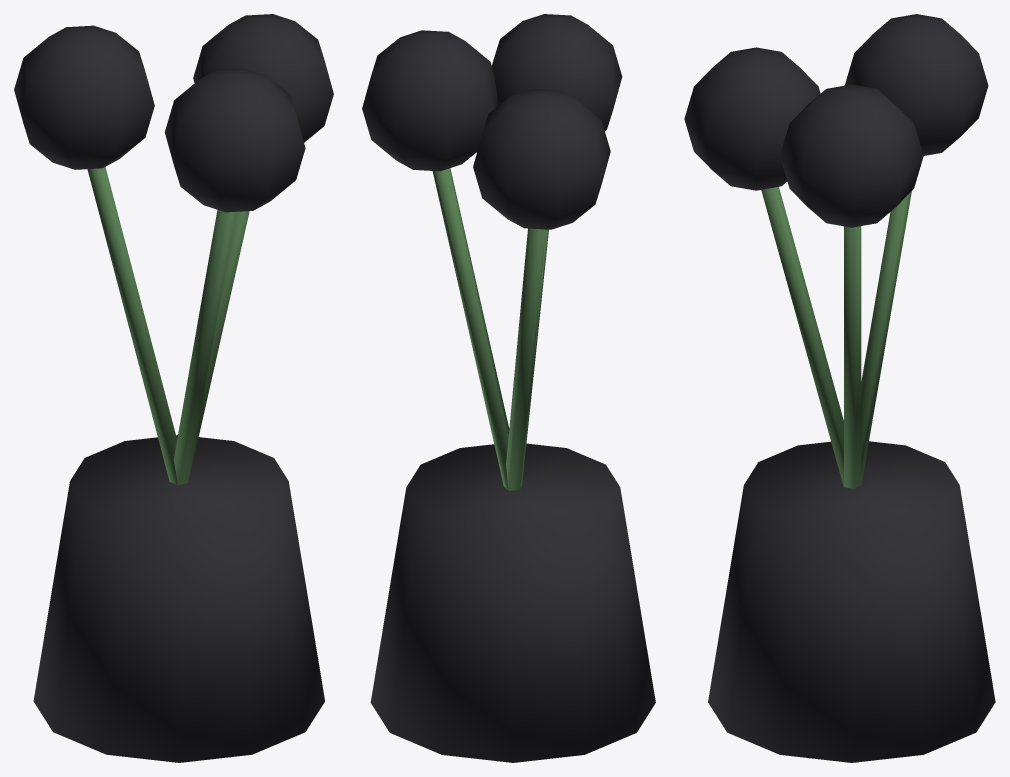
Rendered from withered_sprig_black_roses.glb.
3 renders of one model, left to right at view 1: azimuth 30°, elevation 25°; view 2: azimuth 150°, elevation 25°; view 3: azimuth 270°, elevation 25°, orthographic. The views are drawn at different scales.
Parts seen in each view (by area): view 1: GD_withered_sprig_black_roses__m0, GD_withered_sprig_black_roses__m1; view 2: GD_withered_sprig_black_roses__m0, GD_withered_sprig_black_roses__m1; view 3: GD_withered_sprig_black_roses__m0, GD_withered_sprig_black_roses__m1.
Part boxes in pixels (x1=…): GD_withered_sprig_black_roses__m0: x1=14, y1=14, x2=333, y2=762; GD_withered_sprig_black_roses__m1: x1=87, y1=167, x2=249, y2=485; GD_withered_sprig_black_roses__m0: x1=362, y1=14, x2=655, y2=762; GD_withered_sprig_black_roses__m1: x1=432, y1=168, x2=548, y2=490; GD_withered_sprig_black_roses__m0: x1=684, y1=14, x2=995, y2=762; GD_withered_sprig_black_roses__m1: x1=761, y1=187, x2=911, y2=488.
Bounding box in the file's own units: 0.13 × 0.3 × 0.1298.
